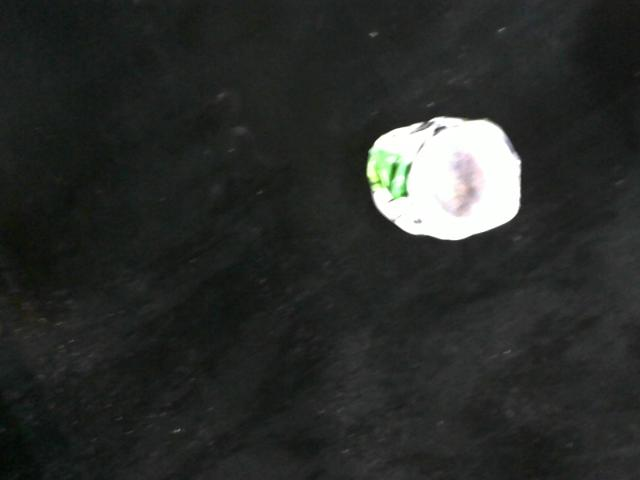can: (362, 107, 528, 247)
